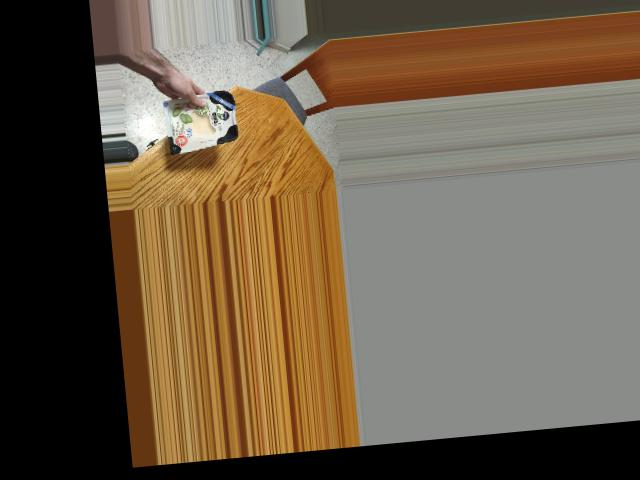cheese: (149, 84, 248, 147)
